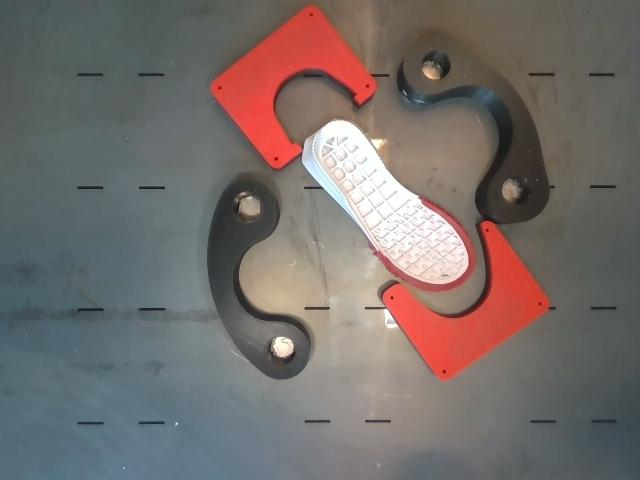shoes: (313, 120, 471, 290)
